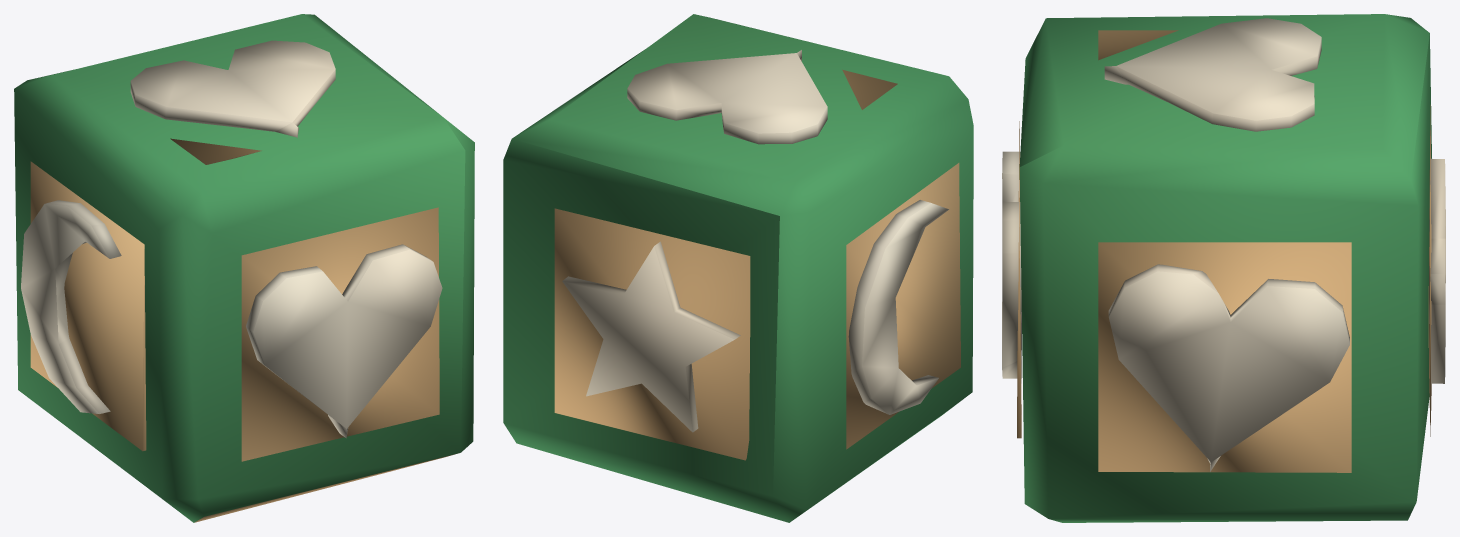
Rendered from den_block_green_lod2.glb.
3 views of the same model, side by side, from view 1: azimuth 30°, elevation 25°; view 2: azimuth 150°, elevation 25°; view 3: azimuth 270°, elevation 25° (orthographic). The views are drawn at different scales.
Visible parts, largest first — view 1: den_block_green.001; view 2: den_block_green.001; view 3: den_block_green.001.
Boxes of the visible parts, box(x1,y1,x2,y2) form: den_block_green.001: box(14, 14, 474, 522); den_block_green.001: box(503, 14, 973, 522); den_block_green.001: box(1002, 14, 1445, 522).
Bounding box in the file's own units: 4.92 × 4.8 × 4.91.
